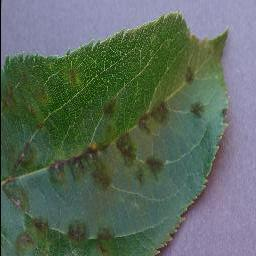apple scab disease: (0, 10, 231, 255)
